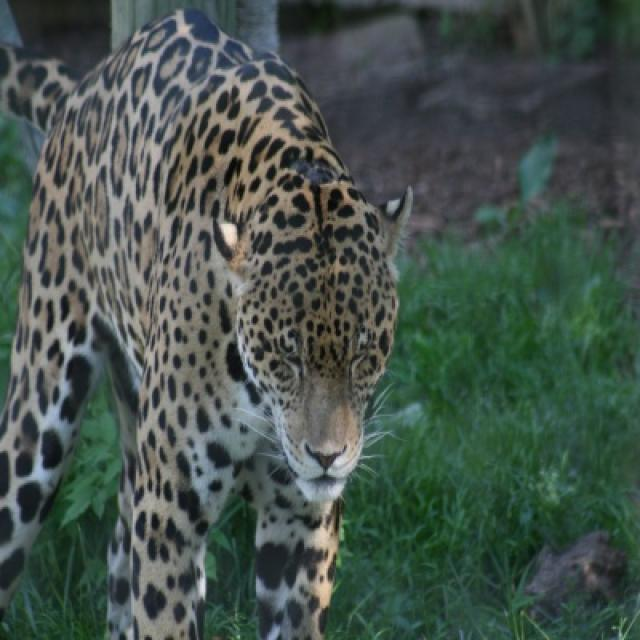Jaguar: (0, 10, 413, 638)
